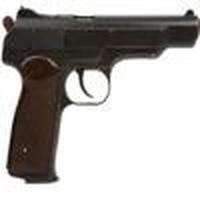gun: (1, 6, 200, 188)
